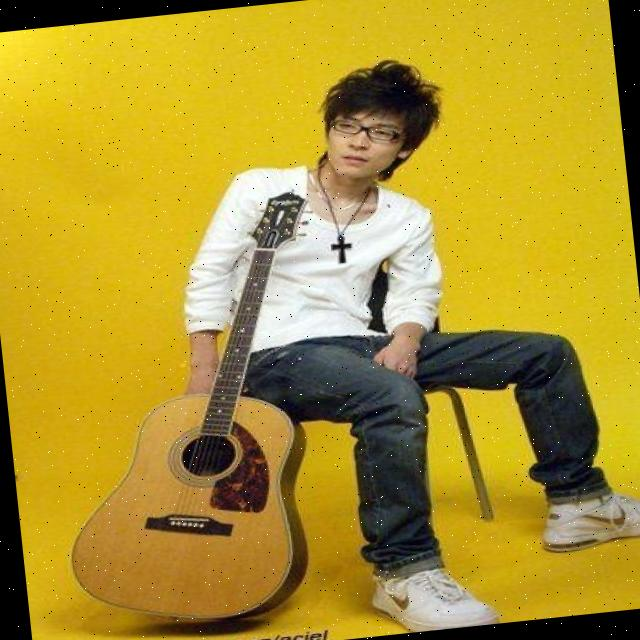guitar: (25, 187, 356, 640)
